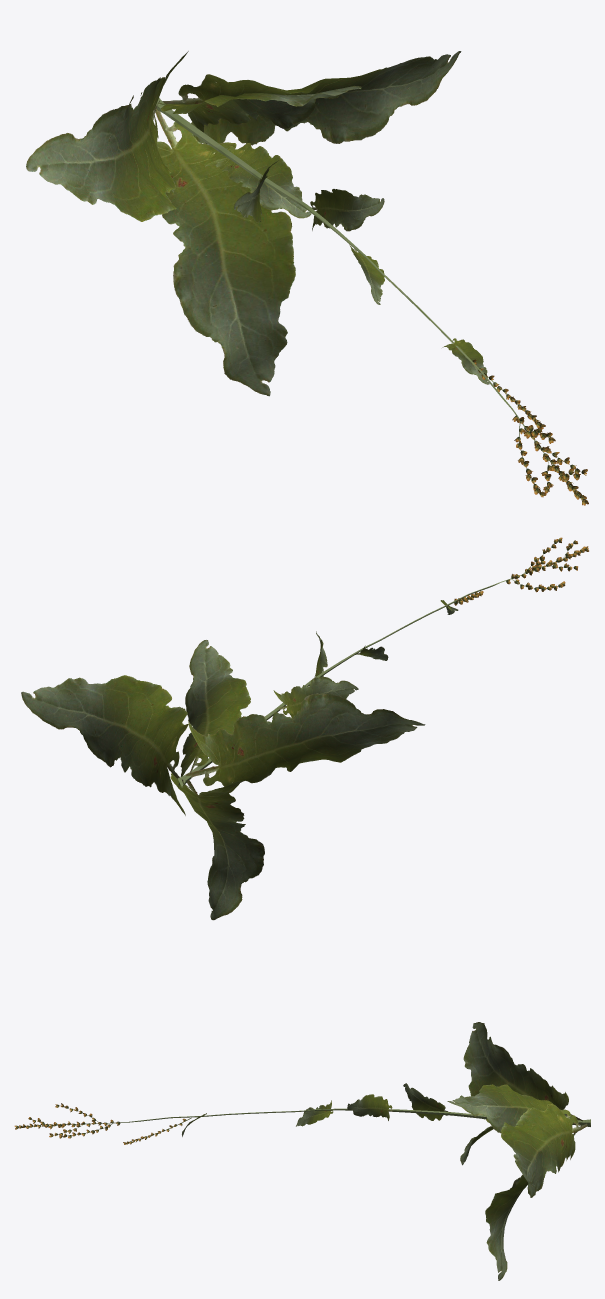
3 views of the same model, one above another, from view 1: azimuth 30°, elevation 25°; view 2: azimuth 150°, elevation 25°; view 3: azimuth 270°, elevation 25° (orthographic). The views are drawn at different scales.
Visible parts, largest first — view 1: GC16_3; view 2: GC16_3; view 3: GC16_3.
Boxes of the visible parts, <box> form: GC16_3: <box>26,51,588,505</box>; GC16_3: <box>21,537,588,920</box>; GC16_3: <box>14,1022,590,1280</box>.
Size of the model in its own units: 0.7871 by 0.6273 by 1.34.
Materials: 4 (4 with a texture image).
